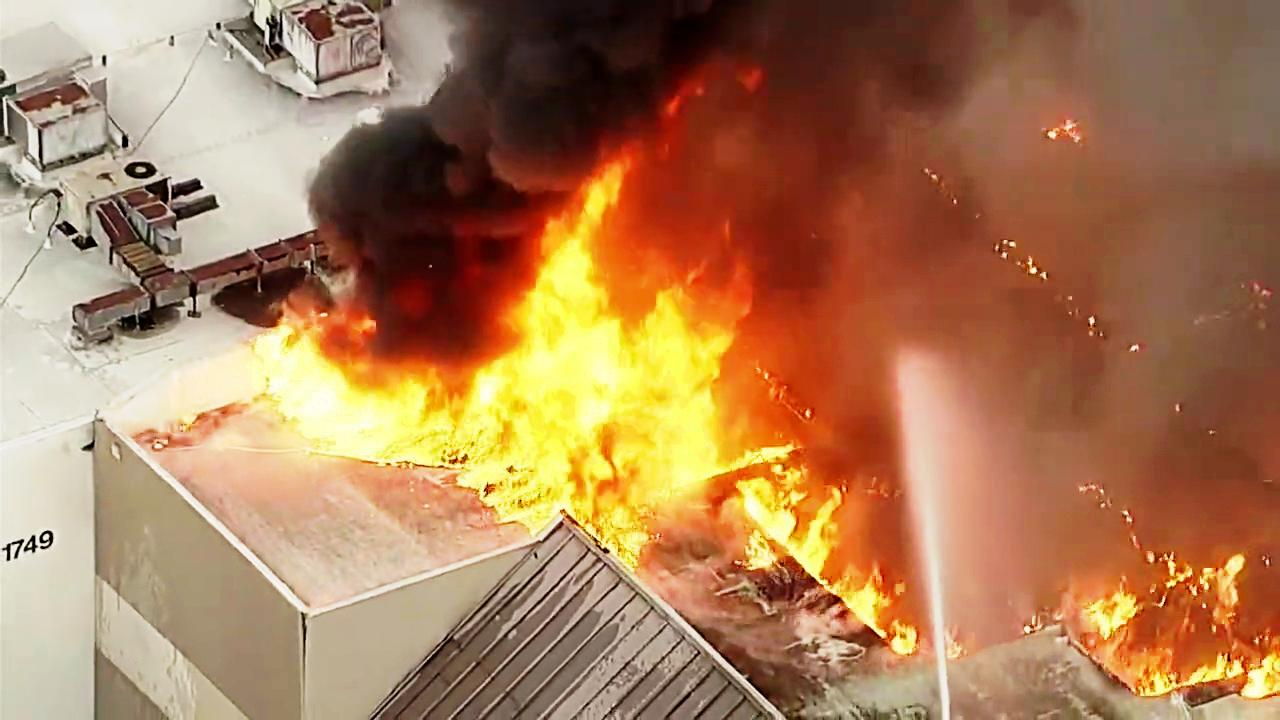fire: (515, 155, 729, 487), (275, 297, 533, 479), (1100, 537, 1255, 697)
smoke: (514, 0, 917, 197)
